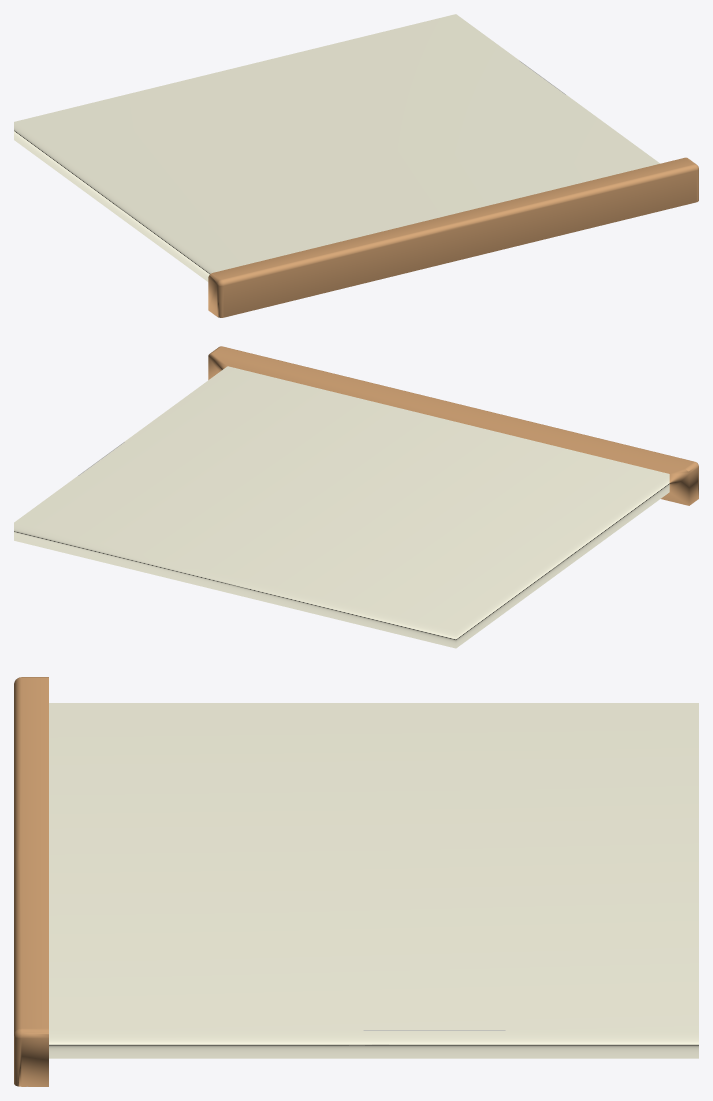
File: topTable.dae
The picture shows the model from 3 angles, top to bottom: view 1: azimuth 30°, elevation 25°; view 2: azimuth 150°, elevation 25°; view 3: azimuth 270°, elevation 25°; orthographic projection. The views are drawn at different scales.
Visible parts, largest first — view 1: transform1; view 2: transform1; view 3: transform1.
Part boxes in pixels (x1,y1,x2,y2): transform1: [14, 14, 698, 317]; transform1: [14, 346, 698, 648]; transform1: [14, 677, 698, 1086].
Size of the model in its own units: 0.555 by 0.04 by 0.45.
Materials: 1 (1 with a texture image).
